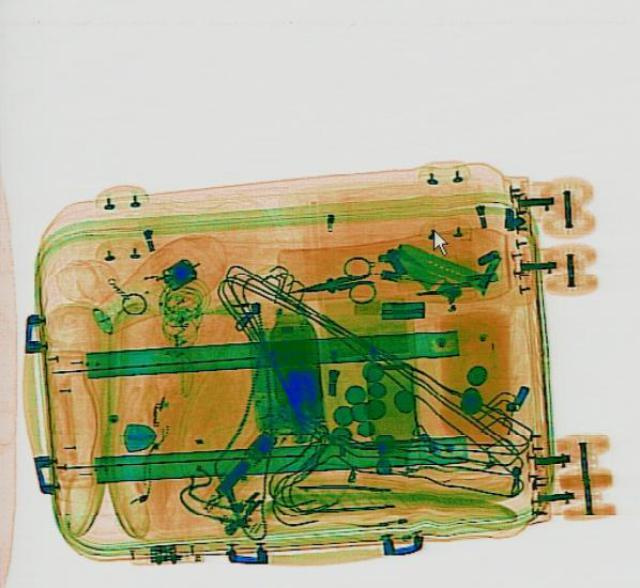Scissors: (284, 252, 376, 312)
